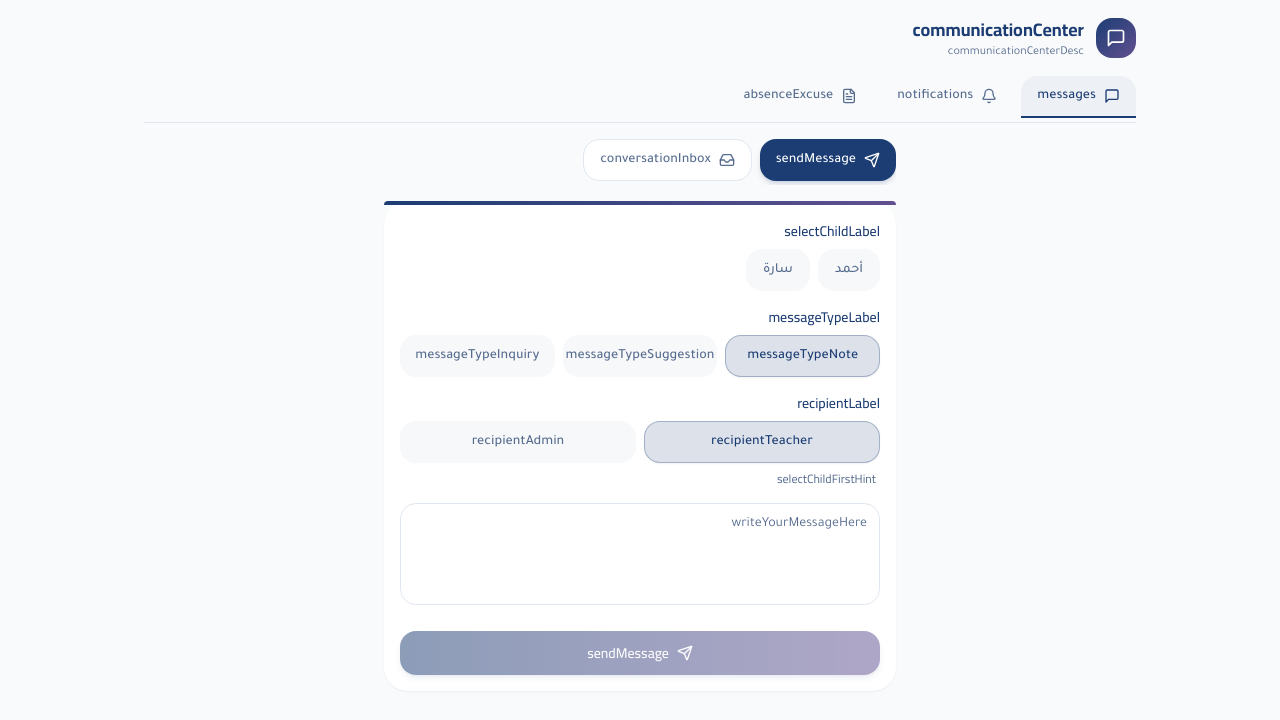
Test: ParentCommunicationCenter — required child context › gates the teacher step and the send button until a child is selected
Check: the text "selectChildFirstHint" is shown, box x1=777 y1=467 x2=876 y2=490
Step 1. Type "رسالة تجريبية" into the text box with placeholder "writeYourMessageHere" → (640, 554), box x1=400 y1=503 x2=880 y2=605
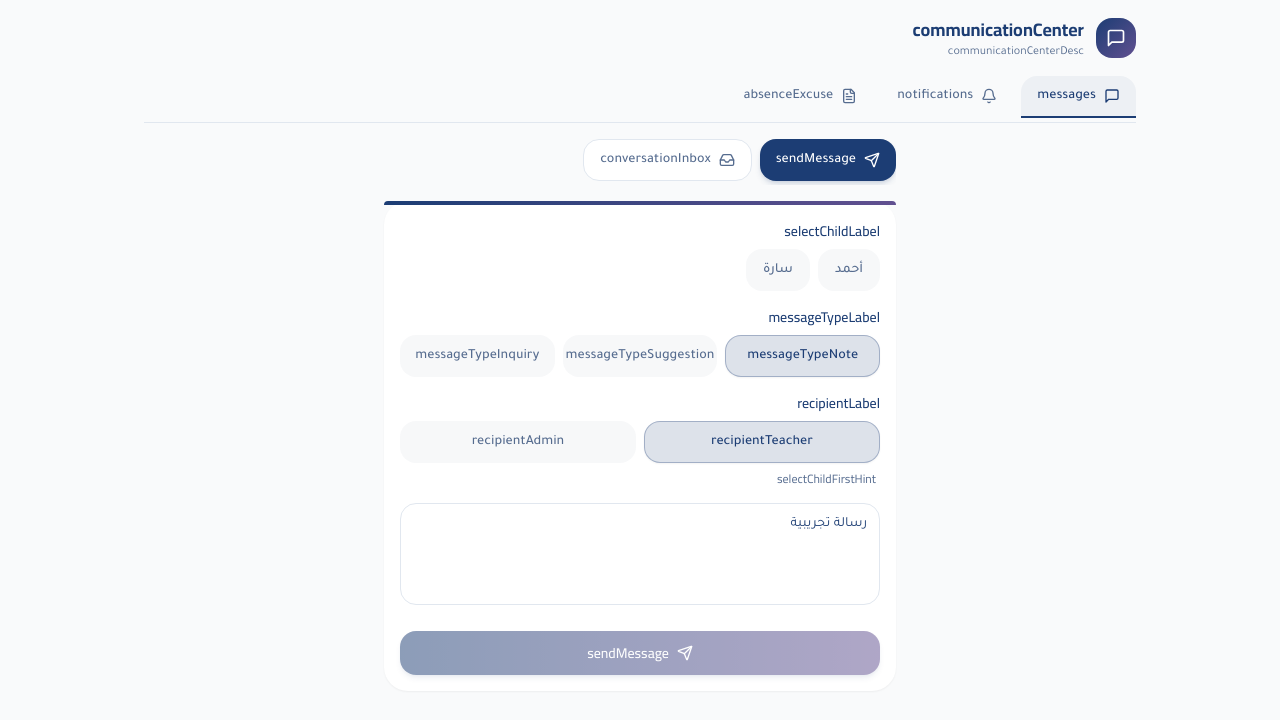
Check: the button "sendMessage" below "selectChildFirstHint" is disabled, box x1=400 y1=631 x2=880 y2=675
// Admin recipient is gated too — child still required.
Step 2. Click the button "recipientAdmin" → (518, 442), box x1=400 y1=421 x2=636 y2=463
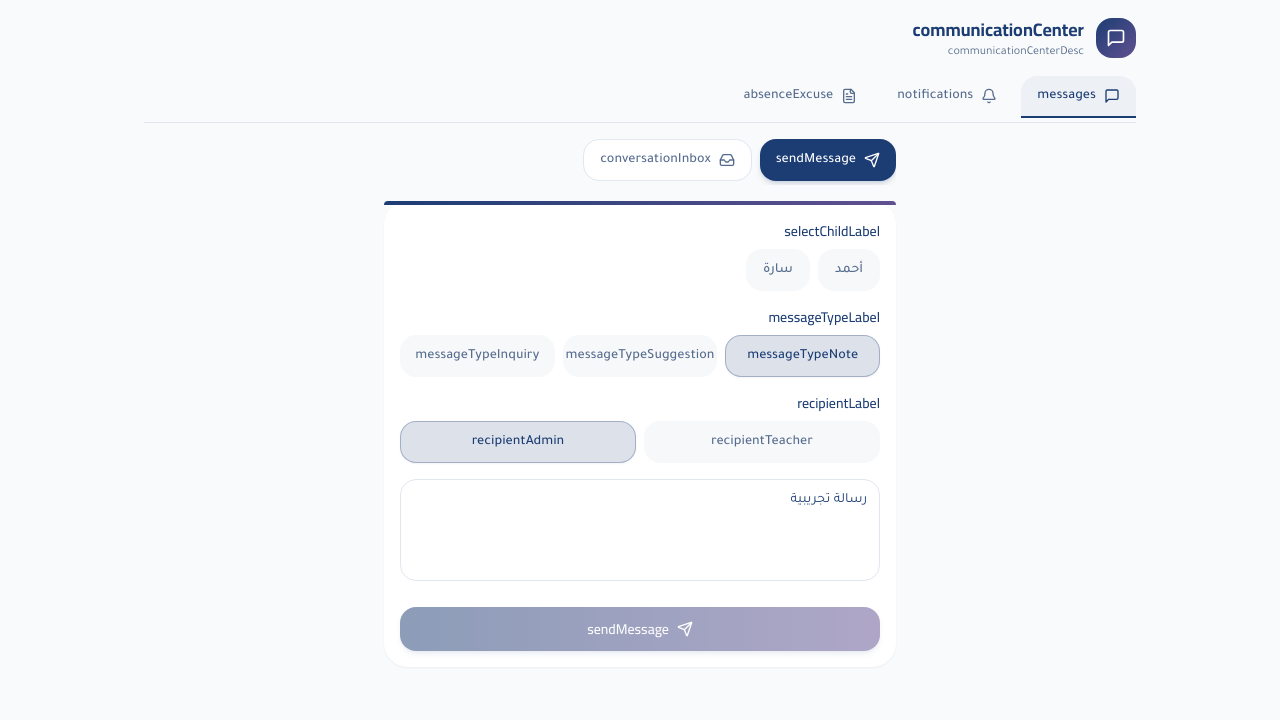
Check: the button "sendMessage" below "recipientLabel" is disabled, box x1=400 y1=607 x2=880 y2=651
Step 3. Click the button "سارة" → (778, 270), box x1=746 y1=249 x2=810 y2=291
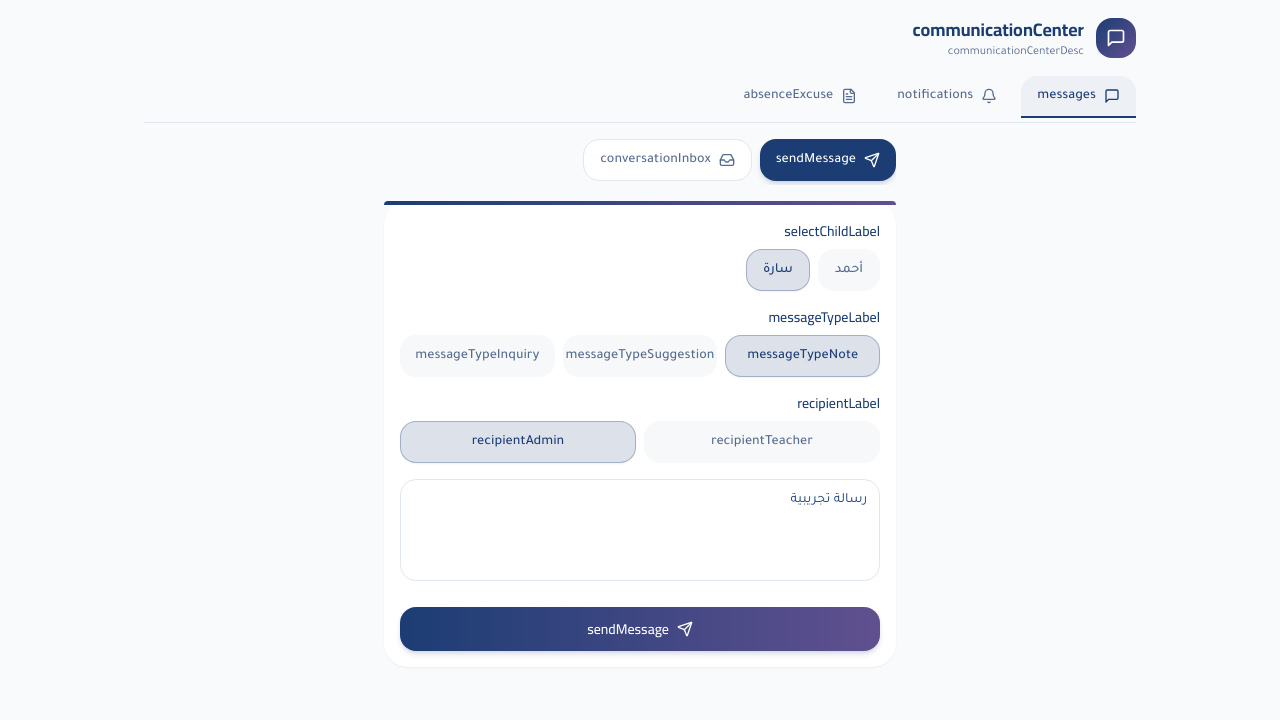
Check: the button "sendMessage" below "recipientLabel" is enabled, box x1=400 y1=607 x2=880 y2=651
